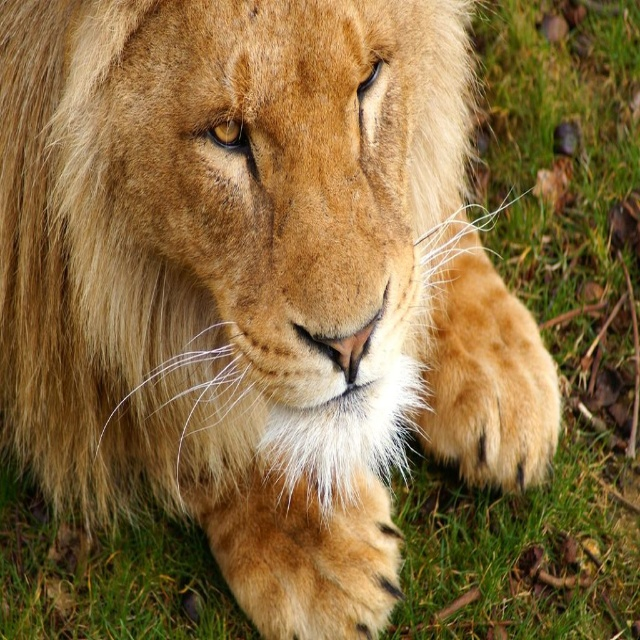Lion: (0, 0, 564, 639)
